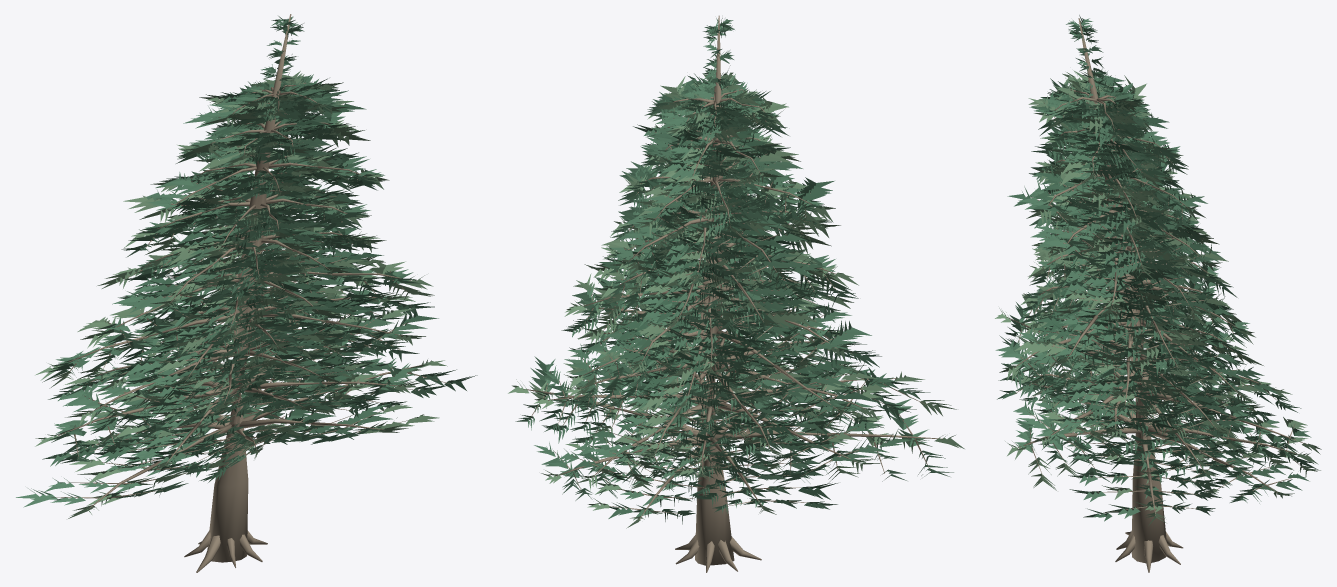
File: cedar_8.glb
3 views of the same model, side by side, from view 1: azimuth 30°, elevation 25°; view 2: azimuth 150°, elevation 25°; view 3: azimuth 270°, elevation 25° (orthographic). The views are drawn at different scales.
Visible parts, largest first — view 1: tree_conifer_ConiferLeaf, tree_conifer_ConiferLeafLight, tree_conifer_ConiferLeafDark, tree_conifer_ConiferBark; view 2: tree_conifer_ConiferLeaf, tree_conifer_ConiferLeafLight, tree_conifer_ConiferLeafDark, tree_conifer_ConiferBark; view 3: tree_conifer_ConiferLeaf, tree_conifer_ConiferLeafLight, tree_conifer_ConiferLeafDark, tree_conifer_ConiferBark.
Part boxes in pixels (bbox=[...]): tree_conifer_ConiferLeaf: bbox=[16, 16, 456, 507]; tree_conifer_ConiferLeafLight: bbox=[35, 71, 447, 518]; tree_conifer_ConiferLeafDark: bbox=[42, 77, 477, 482]; tree_conifer_ConiferBark: bbox=[51, 14, 450, 572]; tree_conifer_ConiferLeaf: bbox=[515, 18, 953, 520]; tree_conifer_ConiferLeafLight: bbox=[508, 65, 964, 528]; tree_conifer_ConiferLeafDark: bbox=[534, 72, 916, 524]; tree_conifer_ConiferBark: bbox=[523, 15, 942, 572]; tree_conifer_ConiferLeaf: bbox=[995, 15, 1309, 518]; tree_conifer_ConiferLeafLight: bbox=[995, 70, 1321, 525]; tree_conifer_ConiferLeafDark: bbox=[997, 78, 1317, 521]; tree_conifer_ConiferBark: bbox=[1006, 18, 1306, 572].
Size of the model in its own units: 12.51 by 14.52 by 7.85.
